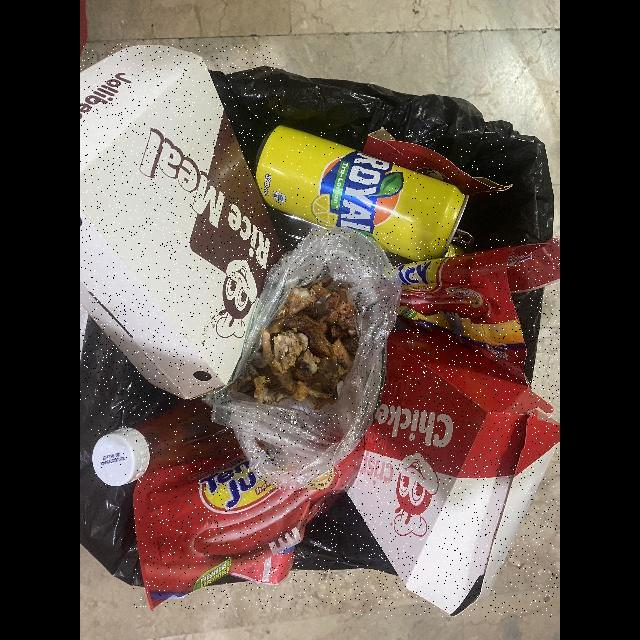biowaste: (224, 279, 358, 411)
glass: (91, 398, 239, 488)
metal: (254, 125, 469, 261)
paper: (80, 45, 285, 400), (347, 334, 559, 617), (363, 129, 507, 195)
plastic: (205, 228, 401, 488)
wrapper: (133, 439, 364, 610), (393, 238, 560, 389)
